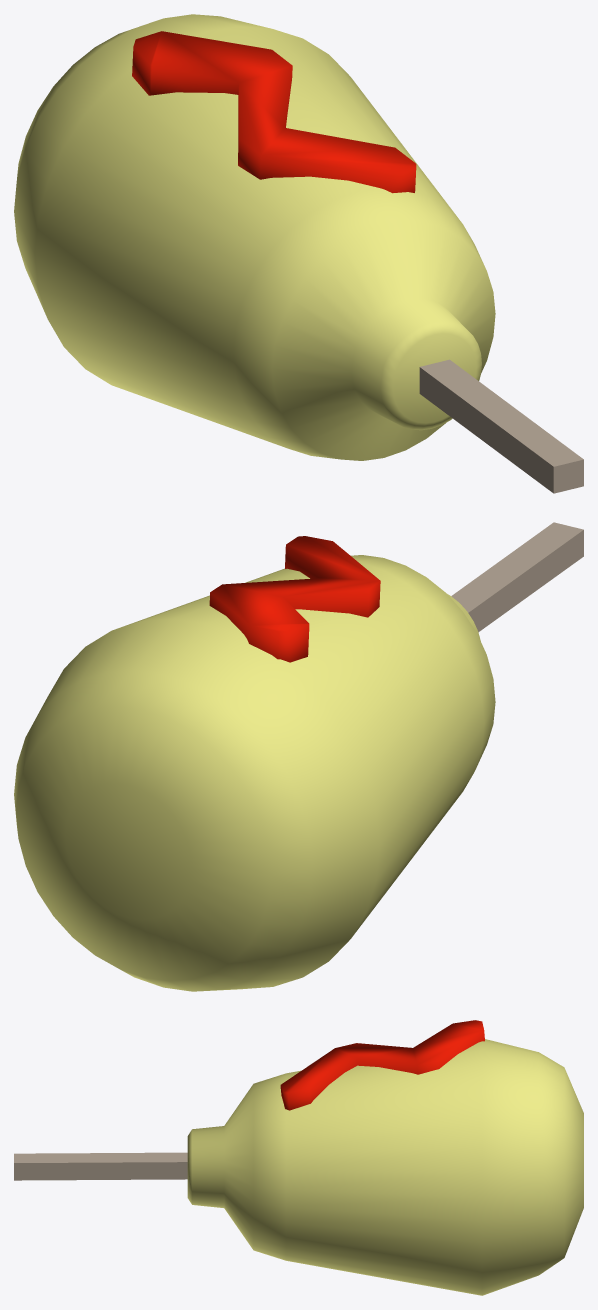
The model's file is CornDogPerfect.fbx.
The picture shows the model from 3 angles, top to bottom: view 1: azimuth 30°, elevation 25°; view 2: azimuth 150°, elevation 25°; view 3: azimuth 270°, elevation 25°; orthographic projection. The views are drawn at different scales.
Visible parts, largest first — view 1: 円柱; view 2: 円柱; view 3: 円柱.
Boxes of the visible parts, x1,y1,x2,y2 form: 円柱: (14, 14, 583, 493); 円柱: (14, 522, 583, 991); 円柱: (14, 1020, 583, 1295).
Bounding box in the file's own units: 200 × 206 × 442.
